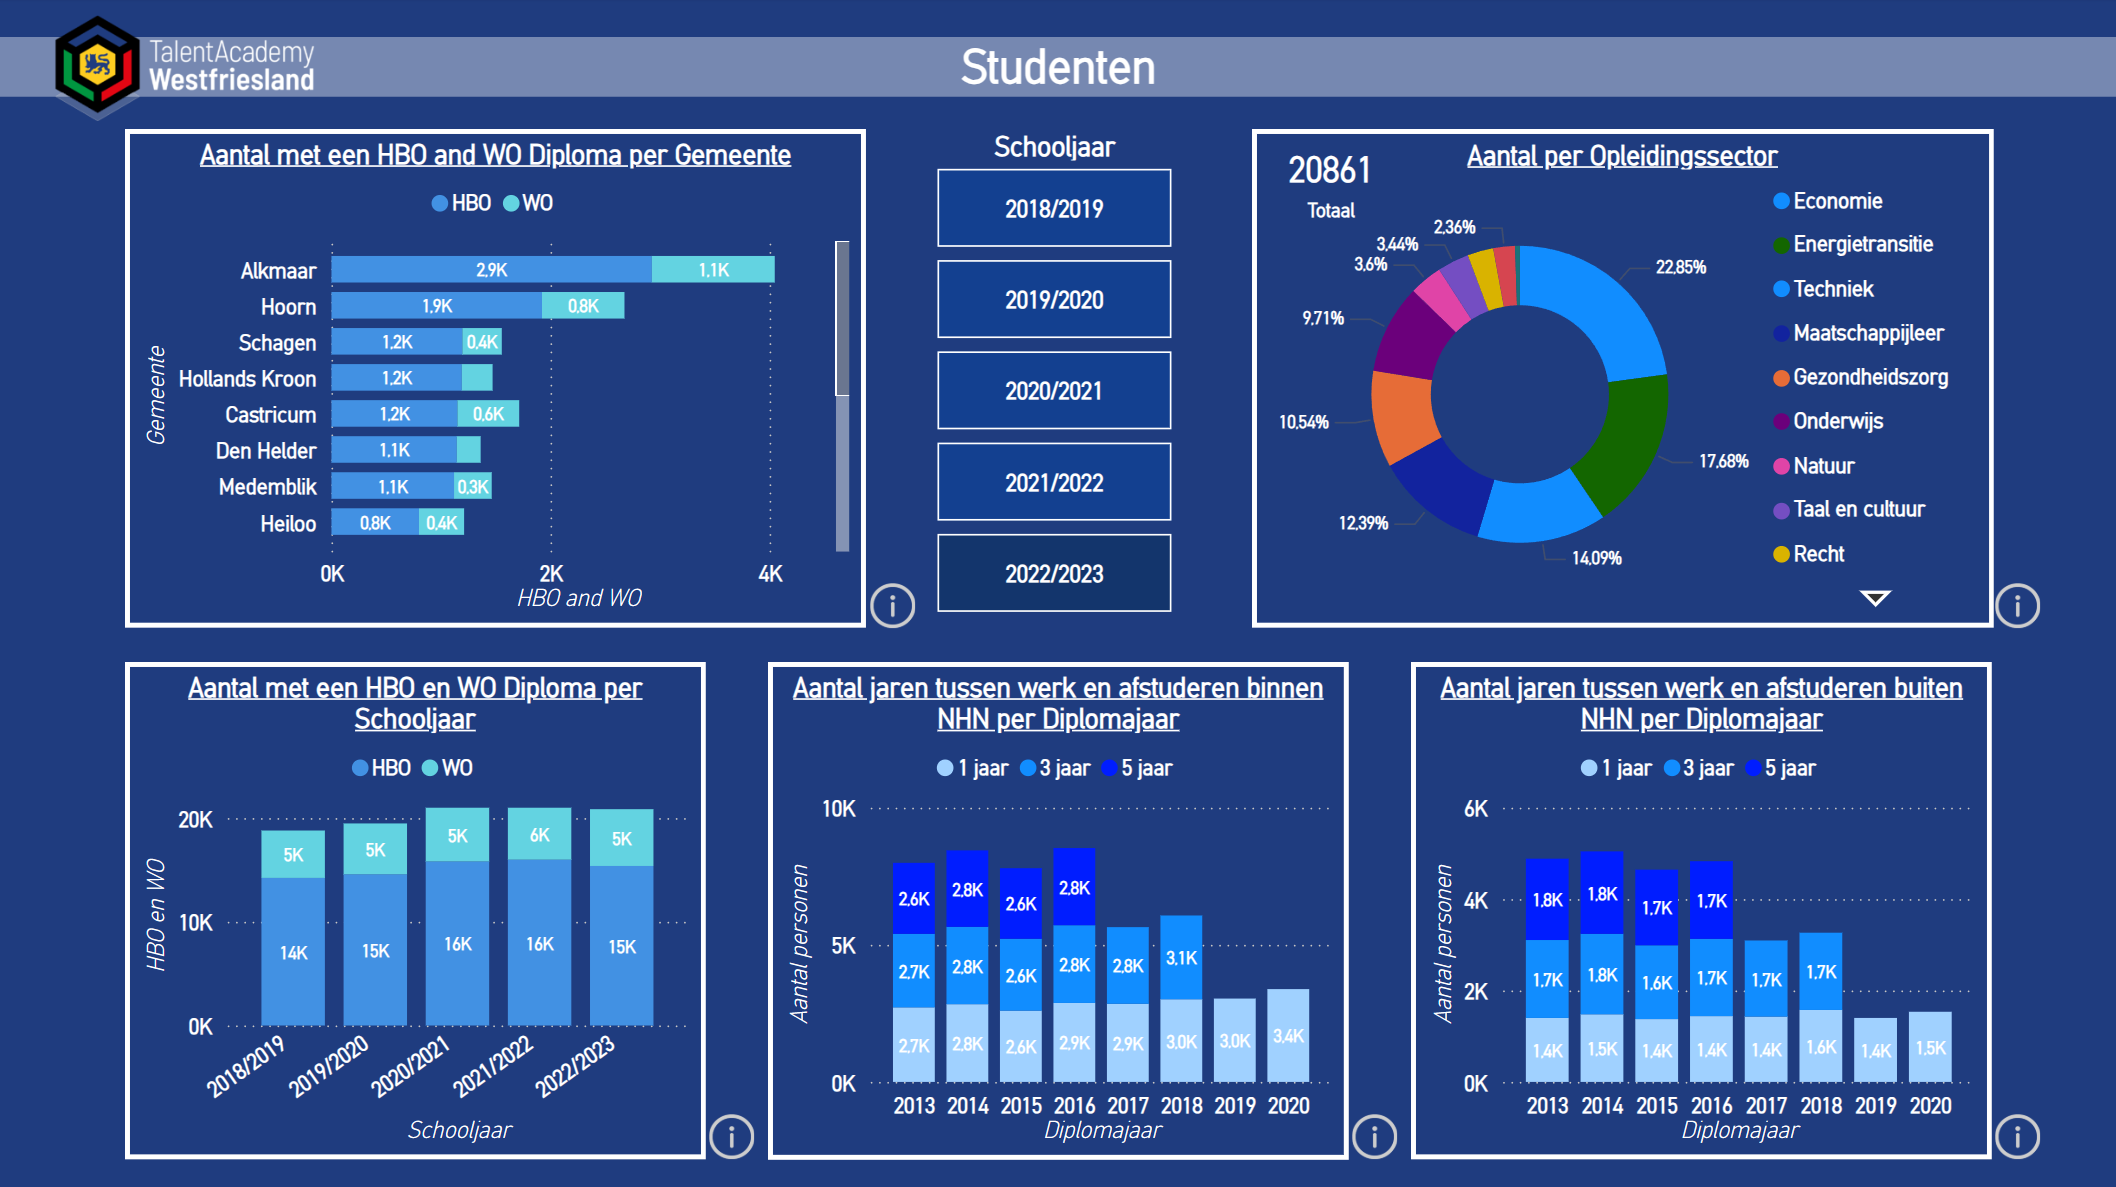

This screenshot's page, from the dashboard's own definition file:
{"tool":"powerbi","page":{"name":"Studenten","canvas":[1280,720],"ordinal":1},"visuals":[{"type":"shape","box":[0,23.3,1280,36.3],"z":0},{"type":"shape","box":[77.2,400.4,350.1,299.7],"z":1000},{"type":"image","box":[12.6,5.6,201.7,73.5],"z":2000},{"type":"shape","box":[464.7,400.1,350,300],"z":3000},{"type":"textbox","box":[523.7,19.3,232.6,44],"z":4000},{"type":"shape","box":[77.3,79,446.5,300.5],"z":5000},{"type":"shape","box":[852.4,400.4,350.1,299.7],"z":6000},{"type":"shape","box":[756.1,78.8,447.2,300.5],"z":7000},{"type":"columnChart","title":"HBO en WO per Schooljaar","fields":{"Category":["nhn studenten_woonregio.Schooljaar"],"Y":["Sum(nhn studenten_woonregio.Aantal_hbo)","Sum(nhn studenten_woonregio.Aantal_wo)"]},"box":[82.6,405.3,339.2,289.9],"z":8000},{"type":"barChart","title":"HBO and WO per Gemeente","fields":{"Category":["nhn studenten_woonregio.Regio_naam"],"Y":["Sum(nhn studenten_woonregio.Aantal_hbo)","Sum(nhn studenten_woonregio.Aantal_wo)"]},"box":[82.5,84,436,290.5],"z":9000},{"type":"advancedSlicerVisual","fields":{"Values":["nhn studenten_woonregio.Schooljaar"]},"box":[541.8,79.2,191.7,300.4],"z":10000},{"type":"donutChart","title":"Aantal per Opleidingssector","fields":{"Category":["nhn studenten_woonregio.Opleidingssector"],"Y":["Sum(nhn studenten_woonregio.Aantal)"]},"box":[761.1,84.1,437.2,289.9],"z":11000},{"type":"columnChart","title":"Aantal jaren tussen werk en afstuderen binnen in NHN","fields":{"Y":["Sum(nhn studenten_woon_en_werkregio.Aantal_1_jaar)","Sum(nhn studenten_woon_en_werkregio.Aantal_3_jaar)","Sum(nhn studenten_woon_en_werkregio.Aantal_5_jaar)"],"Category":["nhn studenten_woon_en_werkregio.Diplomajaar"]},"box":[470.1,405.2,339.2,289.9],"z":12000},{"type":"columnChart","title":"Aantal jaren tussen werk en afstuderen binnen buiten NHN","fields":{"Y":["Sum(nhn studenten_woon_en_werkregio.Aantal_1_jaar)","Sum(nhn studenten_woon_en_werkregio.Aantal_3_jaar)","Sum(nhn studenten_woon_en_werkregio.Aantal_5_jaar)"],"Category":["nhn studenten_woon_en_werkregio.Diplomajaar"]},"box":[858.1,405.3,338.6,289.9],"z":13000},{"type":"image","box":[521.3,348.2,36.5,37.6],"z":14000},{"type":"card","fields":{"Values":["CountNonNull(nhn corop.id)"]},"box":[526.2,354.1,27.8,26.1],"z":15000},{"type":"image","box":[423.8,669,36.5,37.6],"z":16000},{"type":"card","fields":{"Values":["CountNonNull(nhn corop.id)"]},"box":[428.7,674.9,27.8,26.1],"z":17000},{"type":"image","box":[812.4,668.4,36.5,37.6],"z":18000},{"type":"card","fields":{"Values":["CountNonNull(nhn corop.id)"]},"box":[817.3,674.3,27.8,26.1],"z":19000},{"type":"image","box":[1200.9,348.2,36.5,37.6],"z":20000},{"type":"card","fields":{"Values":["CountNonNull(nhn corop.id)"]},"box":[1205.8,354.1,27.8,26.1],"z":21000},{"type":"image","box":[1199.7,667.8,36.5,37.6],"z":22000},{"type":"card","fields":{"Values":["CountNonNull(nhn corop.id)"]},"box":[1204.6,673.7,27.8,26.1],"z":23000}]}

Visuals, with their boxes in screenshot pixels (x1, y1, x2, y2), scaled from the page's 1280x720 canvas onto the 2116x1187 screenshot:
shape: 0/38/2115/98
shape: 128/660/706/1154
image: 21/9/354/130
shape: 768/660/1347/1154
textbox: 866/32/1250/104
shape: 128/130/866/626
shape: 1409/660/1988/1154
shape: 1250/130/1989/625
"HBO en WO per Schooljaar" columnChart: 137/668/697/1146
"HBO and WO per Gemeente" barChart: 136/138/857/617
advancedSlicerVisual - nhn studenten_woonregio.Schooljaar: 896/131/1213/626
"Aantal per Opleidingssector" donutChart: 1258/139/1981/617
"Aantal jaren tussen werk en afstuderen binnen in NHN" columnChart: 777/668/1338/1146
"Aantal jaren tussen werk en afstuderen binnen buiten NHN" columnChart: 1419/668/1978/1146
image: 862/574/922/636
card - CountNonNull(nhn corop.id): 870/584/916/627
image: 701/1103/761/1165
card - CountNonNull(nhn corop.id): 709/1113/755/1156
image: 1343/1102/1403/1164
card - CountNonNull(nhn corop.id): 1351/1112/1397/1155
image: 1985/574/2046/636
card - CountNonNull(nhn corop.id): 1993/584/2039/627
image: 1983/1101/2044/1163
card - CountNonNull(nhn corop.id): 1991/1111/2037/1154
